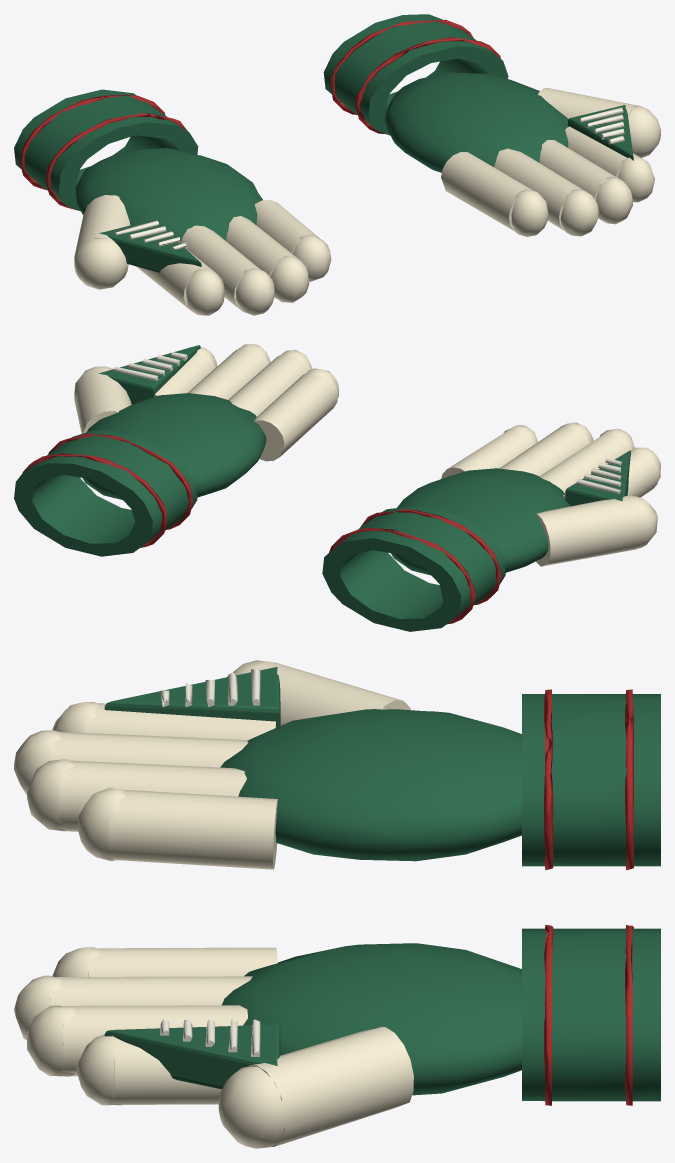
File: keeper-gloves.glb
3 views of the same model, one above another, from view 1: azimuth 30°, elevation 25°; view 2: azimuth 150°, elevation 25°; view 3: azimuth 270°, elevation 25° (orthographic). The views are drawn at different scales.
Parts seen in each view (by area): view 1: wicketkeeping-glove-pair; view 2: wicketkeeping-glove-pair; view 3: wicketkeeping-glove-pair.
Part boxes in pixels (x1,y1,x2,y2): wicketkeeping-glove-pair: [14, 14, 660, 315]; wicketkeeping-glove-pair: [14, 344, 660, 631]; wicketkeeping-glove-pair: [14, 660, 660, 1148].
Size of the model in its own units: 0.4114 by 0.0626 by 0.2562.
